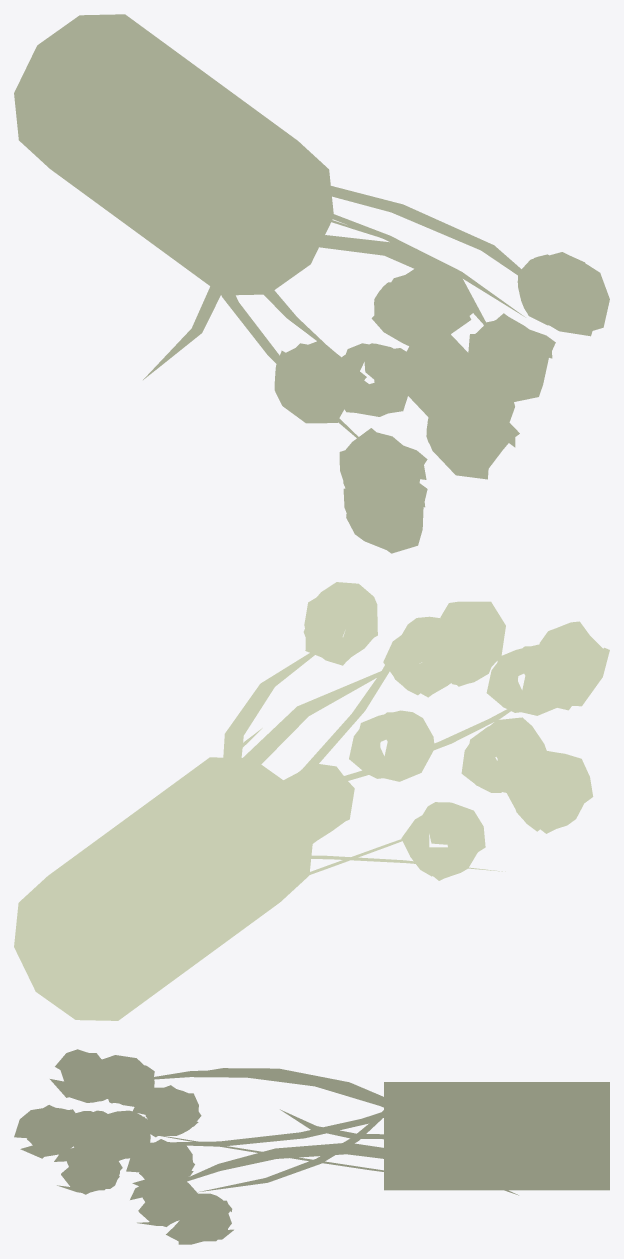
The model's file is flowers1.dae.
The picture shows the model from 3 angles, top to bottom: view 1: azimuth 30°, elevation 25°; view 2: azimuth 150°, elevation 25°; view 3: azimuth 270°, elevation 25°; orthographic projection. The views are drawn at different scales.
Parts seen in each view (by area): view 1: STL object-0; view 2: STL object-0; view 3: STL object-0.
Part boxes in pixels (left/top/right/bottom): STL object-0: left=14, top=14, right=609, bottom=553; STL object-0: left=14, top=582, right=609, bottom=1020; STL object-0: left=14, top=1049, right=609, bottom=1244.
Bounding box in the file's own units: 0.1571 × 0.1197 × 0.3754.
